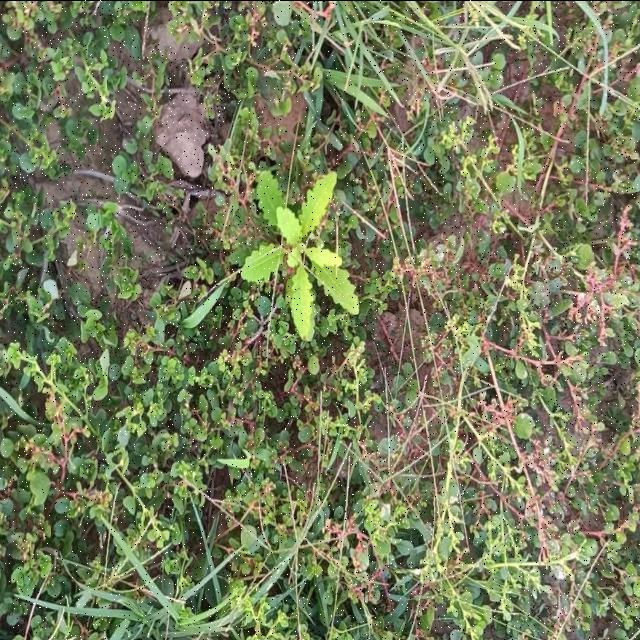weed: (240, 169, 359, 339)
